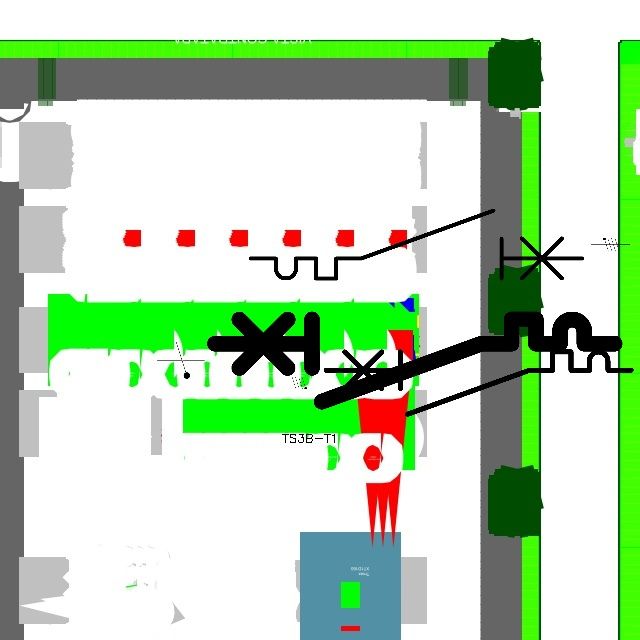interruptor_termomagnetico: (204, 309, 624, 412), (242, 202, 590, 287), (318, 344, 638, 422)
